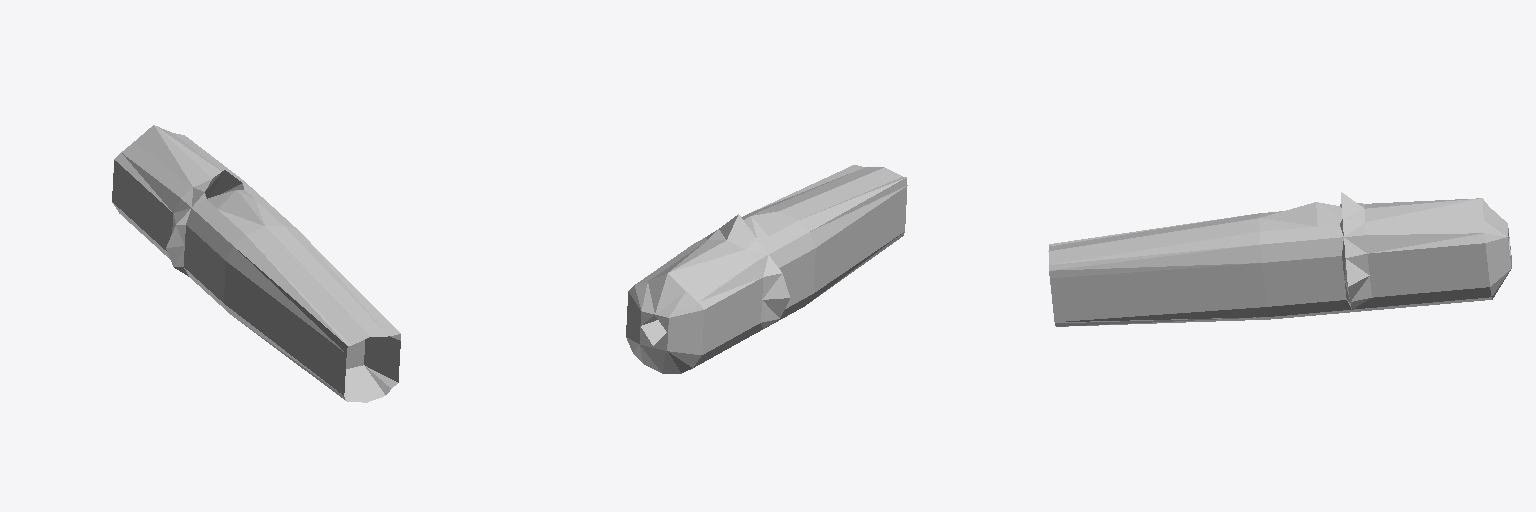
The model's file is rocketl.obj.
The picture shows the model from 3 angles: view 1: azimuth 30°, elevation 25°; view 2: azimuth 150°, elevation 25°; view 3: azimuth 270°, elevation 25°; orthographic projection.
Parts seen in each view (by area): view 1: Cube; view 2: Cube; view 3: Cube.
Part boxes in pixels (bbox=[...]): Cube: bbox=[112, 125, 400, 402]; Cube: bbox=[626, 165, 907, 373]; Cube: bbox=[1048, 192, 1511, 326].
Size of the model in its own units: 0.841 by 0.9195 by 2.99.